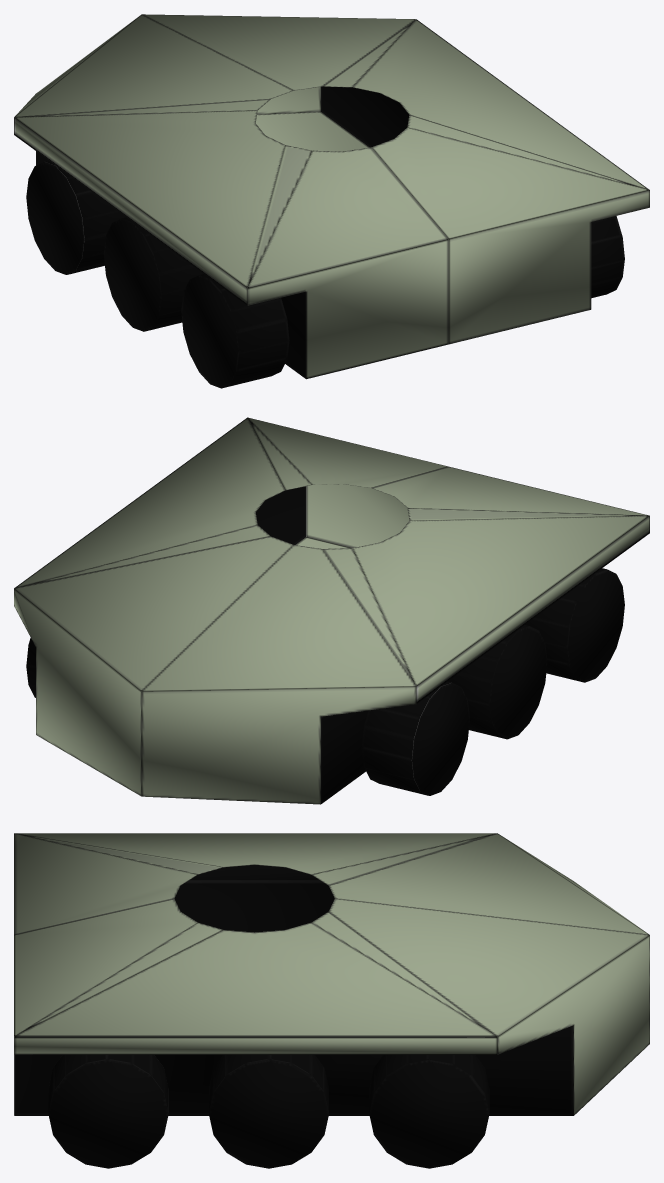
Rendered from tank_base.glb.
The picture shows the model from 3 angles, top to bottom: view 1: azimuth 30°, elevation 25°; view 2: azimuth 150°, elevation 25°; view 3: azimuth 270°, elevation 25°; orthographic projection. The views are drawn at different scales.
Visible parts, largest first — view 1: Cube; view 2: Cube; view 3: Cube.
Boxes of the visible parts, bbox=[...] form: Cube: bbox=[14, 14, 649, 388]; Cube: bbox=[14, 417, 649, 804]; Cube: bbox=[14, 833, 649, 1168].
Size of the model in its own units: 4.8 by 1.9 by 6.34.
1 material, 1 textured.
